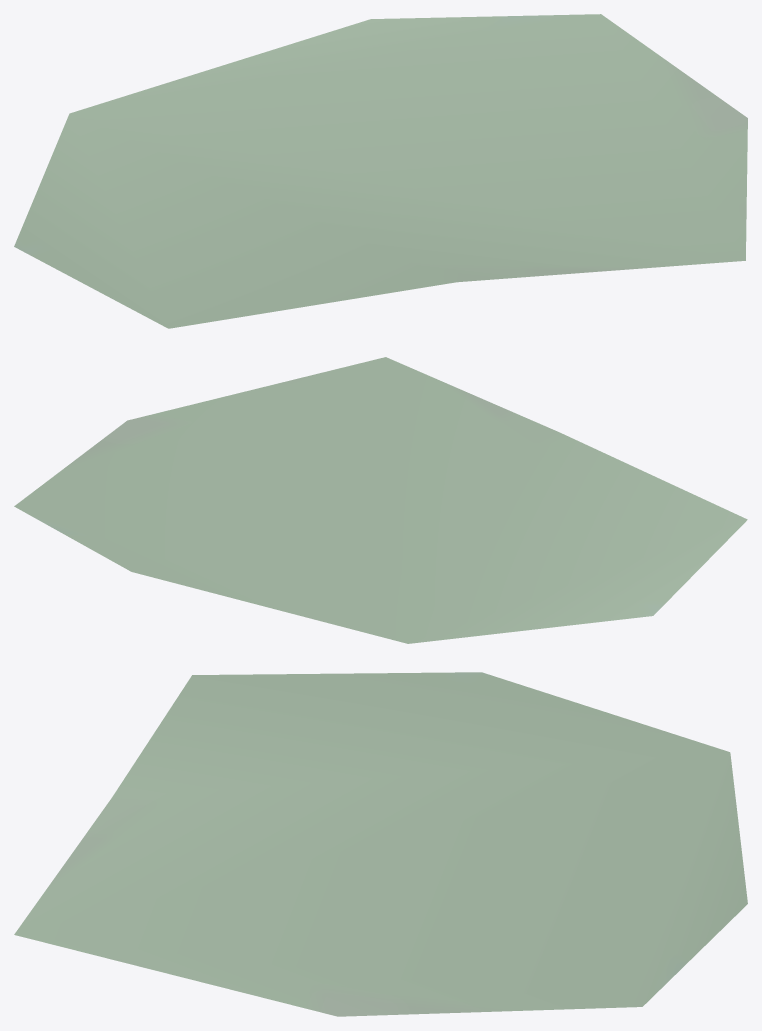
Rendered from TROLLHOLE02_HOLECAP43.fbx.
3 renders of one model, top to bottom at view 1: azimuth 30°, elevation 25°; view 2: azimuth 150°, elevation 25°; view 3: azimuth 270°, elevation 25°, orthographic. The views are drawn at different scales.
Visible parts, largest first — view 1: TROLLHOLE02_HOLECAP43; view 2: TROLLHOLE02_HOLECAP43; view 3: TROLLHOLE02_HOLECAP43.
Boxes of the visible parts, x1,y1,x2,y2 form: TROLLHOLE02_HOLECAP43: (14,14,747,328); TROLLHOLE02_HOLECAP43: (14,357,747,643); TROLLHOLE02_HOLECAP43: (14,672,747,1016).
Bounding box in the file's own units: 22482 × 724 × 19420.
1 material, 1 textured.
